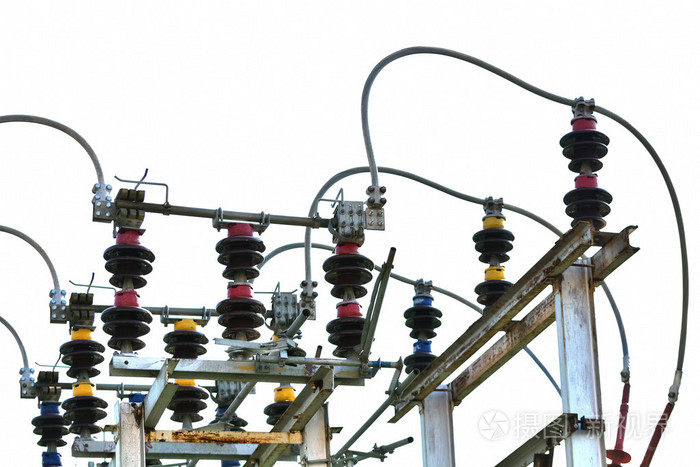insulator: (321, 255, 375, 299), (216, 235, 267, 281), (103, 306, 153, 352), (107, 245, 157, 289), (558, 132, 611, 173), (215, 297, 267, 338), (563, 187, 614, 228), (62, 398, 110, 437), (326, 316, 374, 354), (164, 388, 212, 422), (62, 341, 104, 377), (401, 305, 445, 339), (472, 230, 516, 264), (31, 416, 72, 452), (160, 330, 209, 355), (473, 280, 517, 304)
